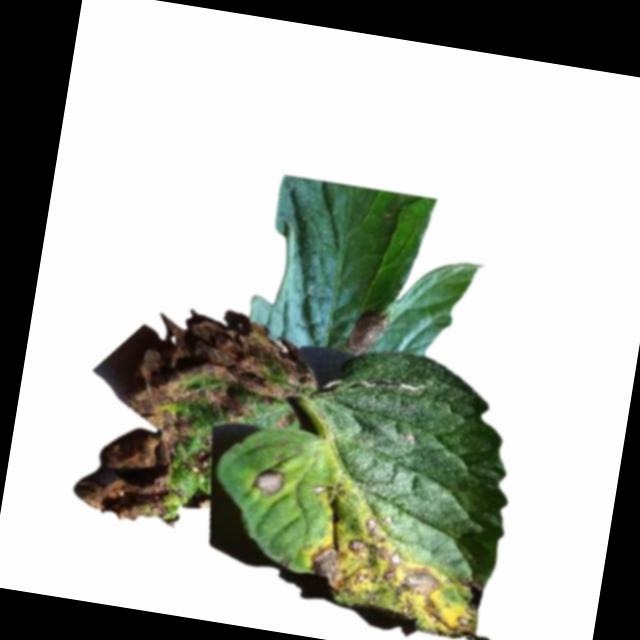Early_blight: (72, 298, 322, 546), (301, 512, 491, 640), (344, 305, 396, 356), (251, 464, 289, 501)
